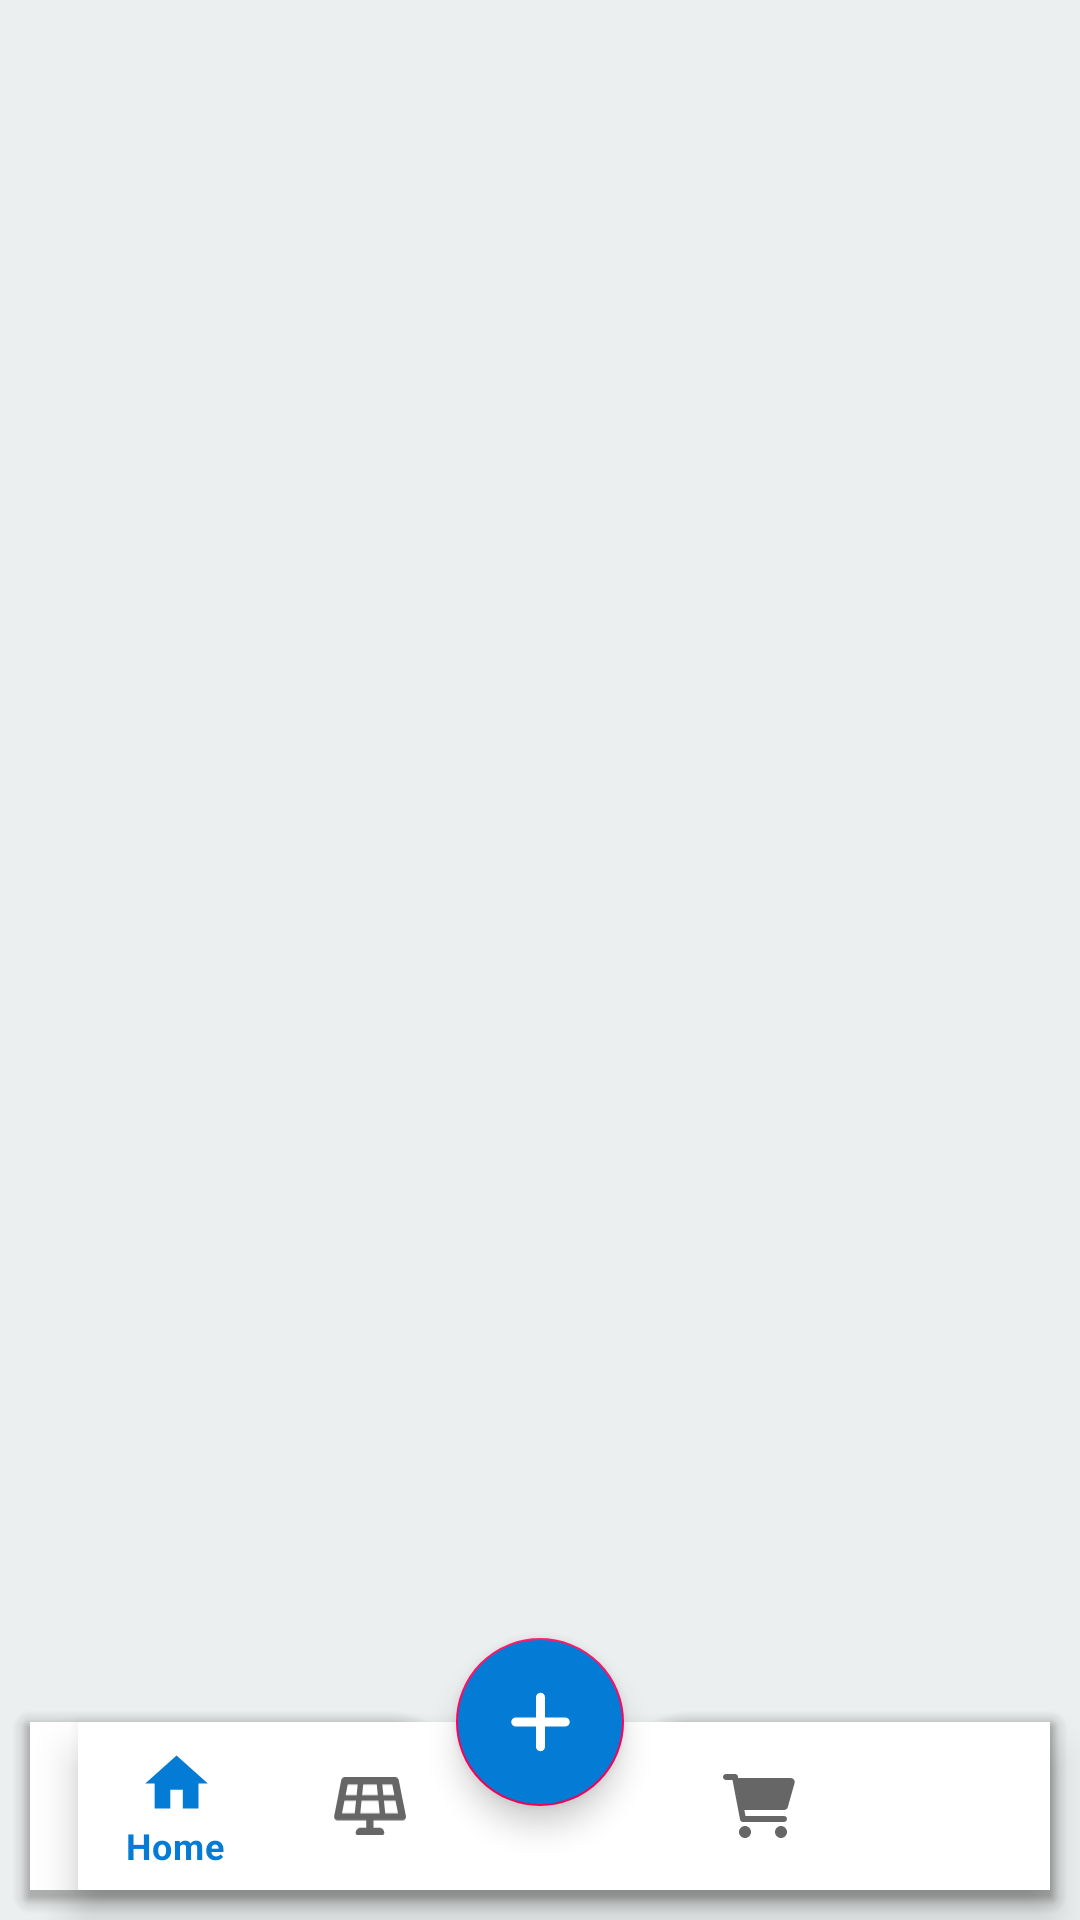

Locate icon controls on the screen. Image size 1080*1920, boxes as region(x1, y1, x2, y2).
plus: region(456, 1638, 624, 1806)
